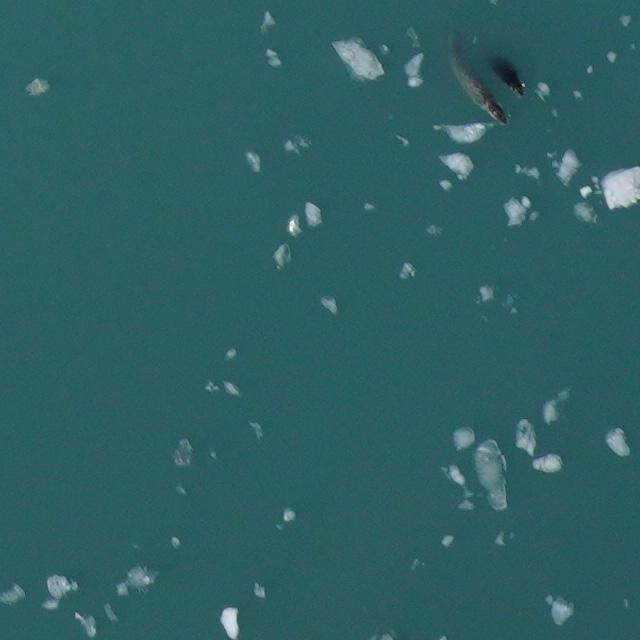seal: (436, 36, 510, 131), (482, 48, 532, 100)
